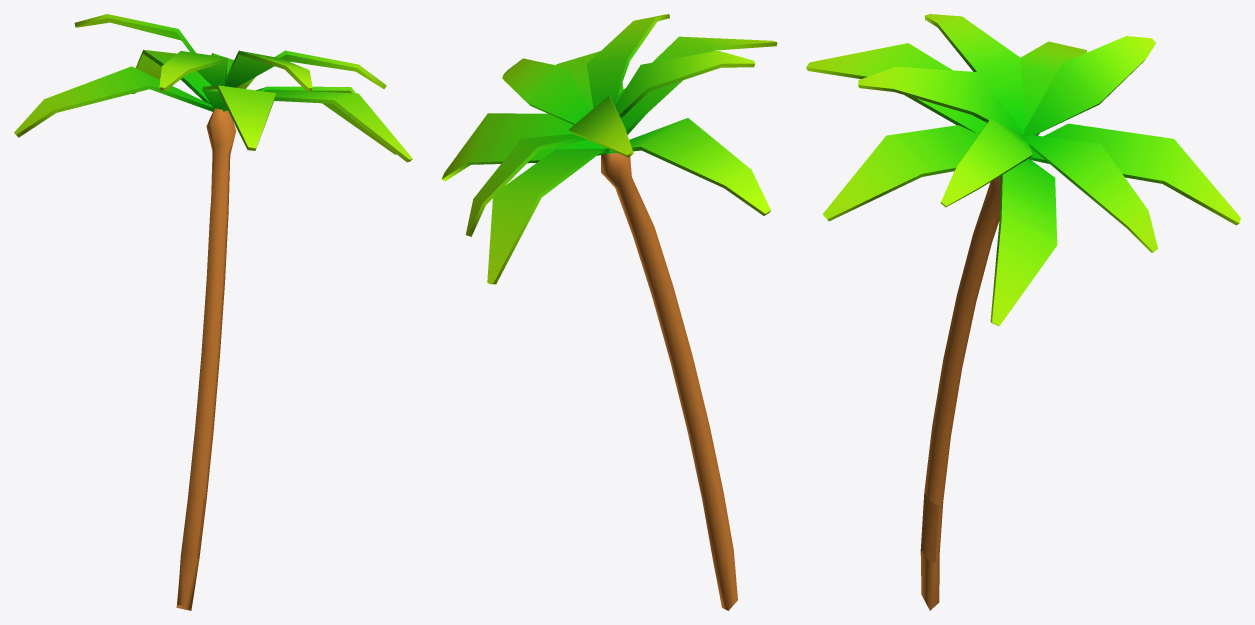
The model's file is Palm_Tree.FBX.
The picture shows the model from 3 angles, left to right: view 1: azimuth 30°, elevation 25°; view 2: azimuth 150°, elevation 25°; view 3: azimuth 270°, elevation 25°; orthographic projection. The views are drawn at different scales.
Visible parts, largest first — view 1: Palm_Tree; view 2: Palm_Tree; view 3: Palm_Tree.
Part boxes in pixels (x1,y1,x2,y2): Palm_Tree: [14, 14, 412, 610]; Palm_Tree: [441, 14, 777, 610]; Palm_Tree: [806, 14, 1240, 610].
Size of the model in its own units: 6.85 by 10.06 by 6.75.
